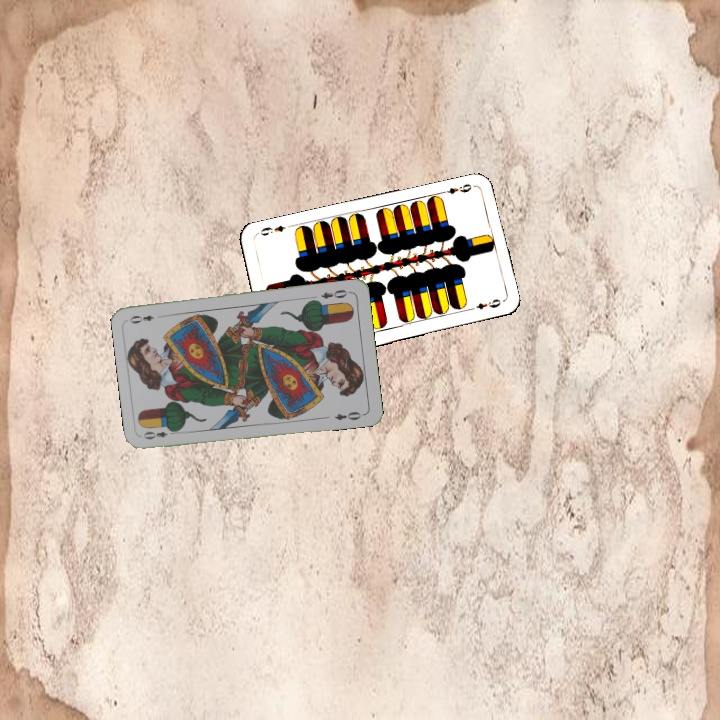E9: (437, 180, 478, 197)
EO: (139, 425, 179, 442), (317, 285, 353, 301)
